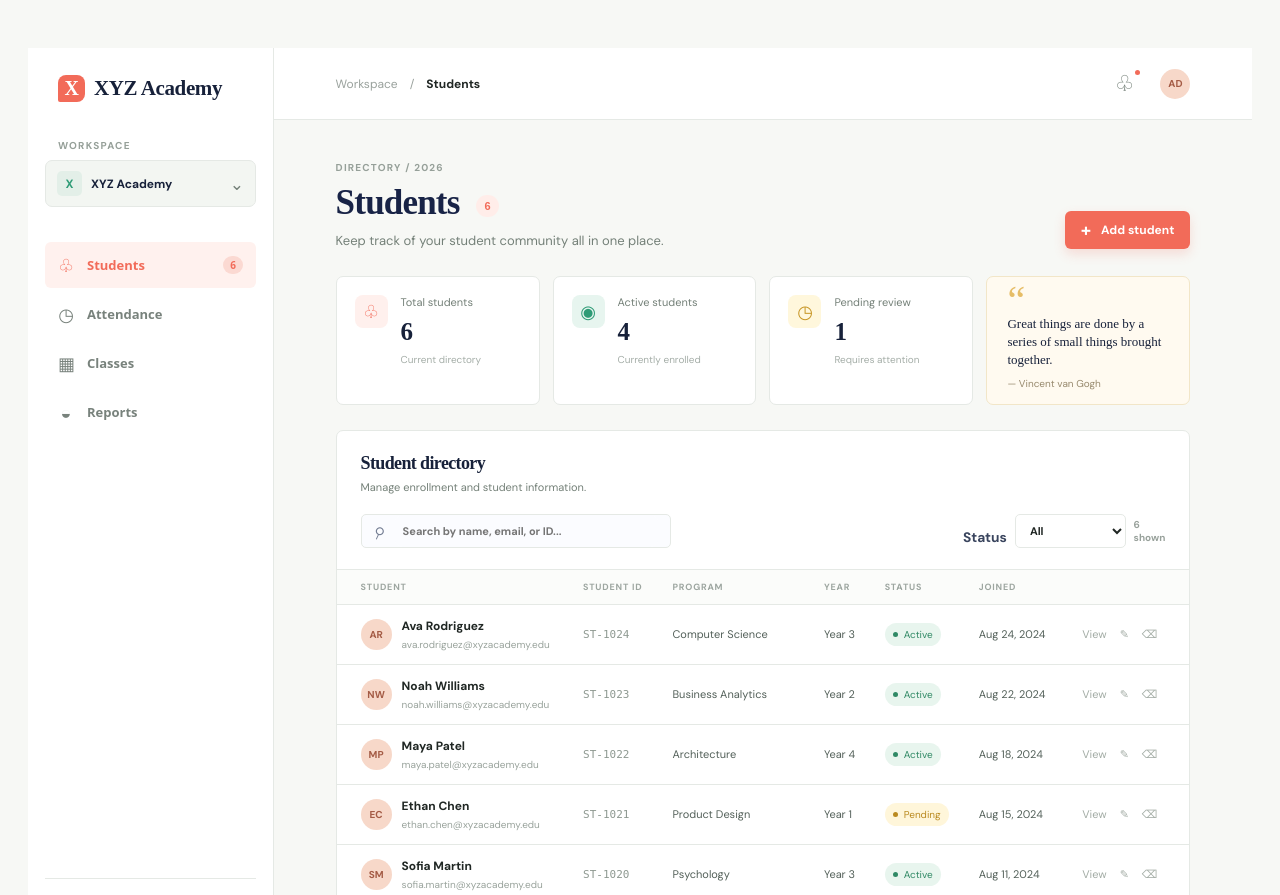
Test: filters students by search query
Type "Maya" into the field named "search students" at (526, 531), box [394,515,659,547]
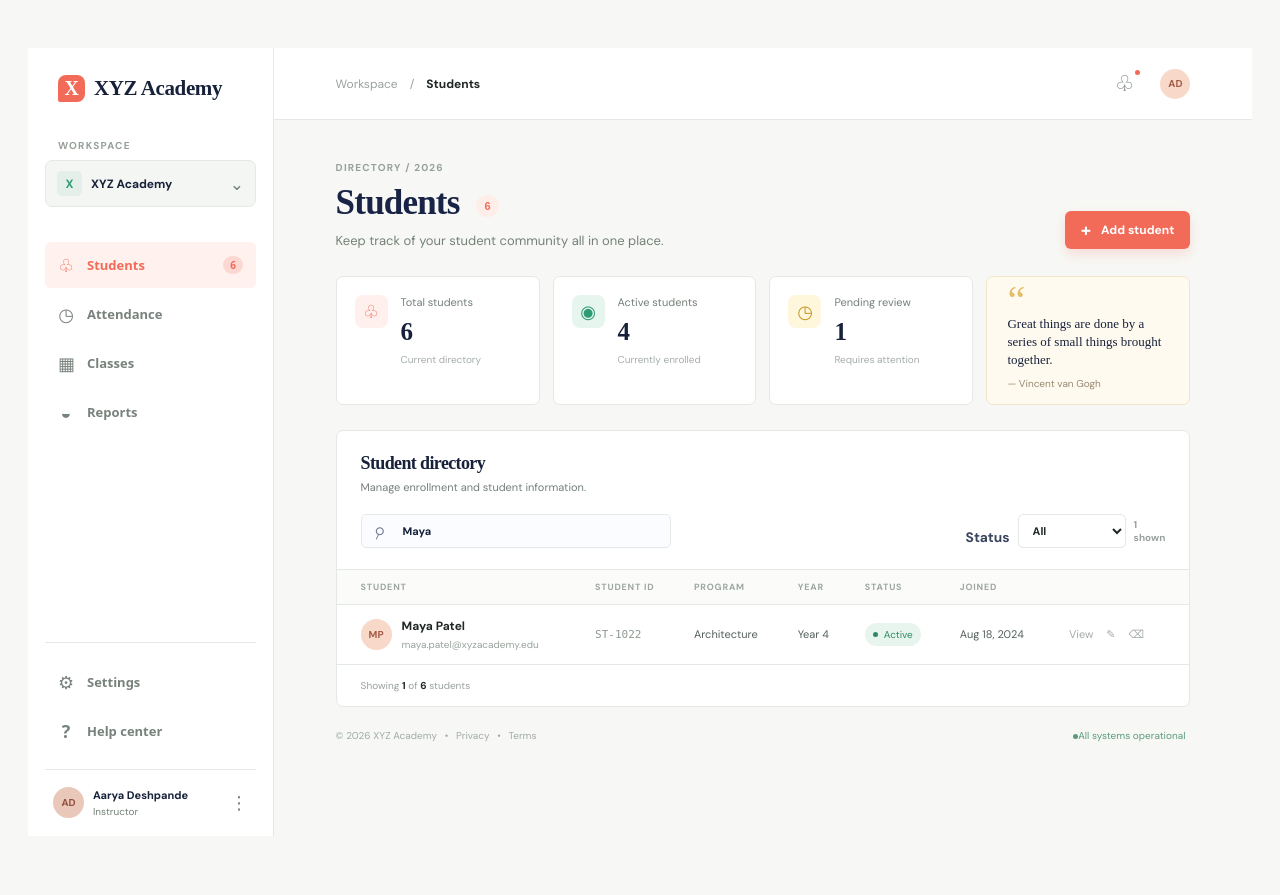
Expected: the text "Maya Patel" is shown, [402,618,465,634]
Now the button "Ava Rodriguez" is gone
